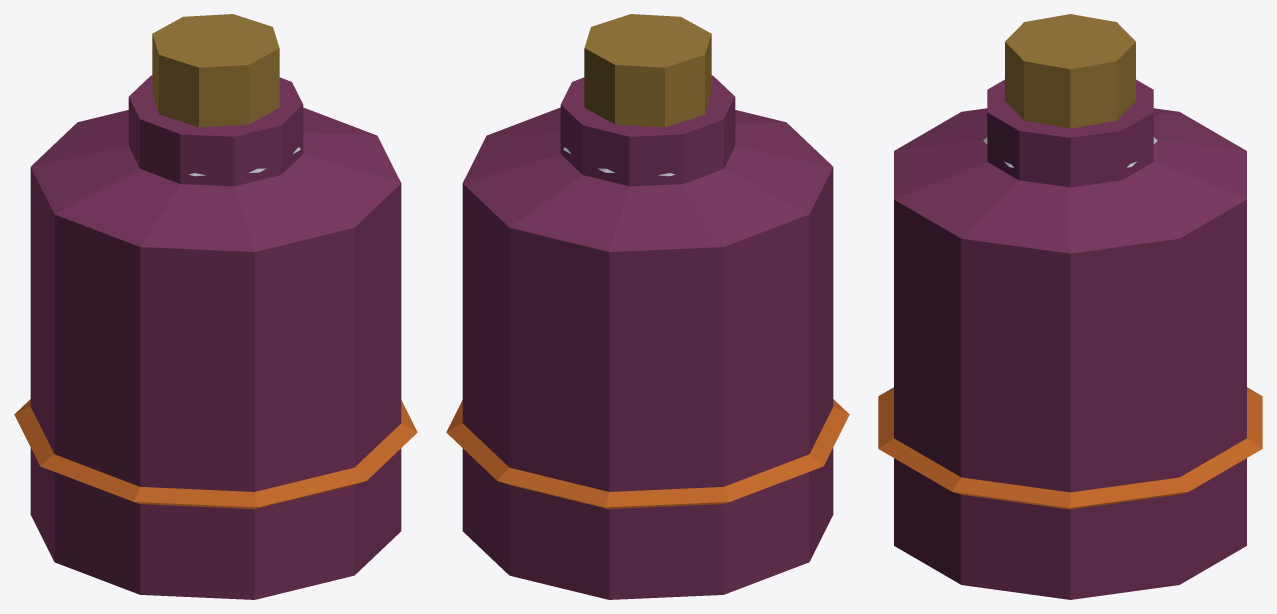
File: vayerbok.glb
The picture shows the model from 3 angles, left to right: view 1: azimuth 30°, elevation 25°; view 2: azimuth 150°, elevation 25°; view 3: azimuth 270°, elevation 25°; orthographic projection.
Visible parts, largest first — view 1: m; view 2: m; view 3: m.
Part boxes in pixels (left/top/right/bottom): m: left=14, top=14, right=417, bottom=599; m: left=446, top=14, right=849, bottom=599; m: left=878, top=14, right=1262, bottom=599.
Size of the model in its own units: 0.074 by 0.097 by 0.0704.
